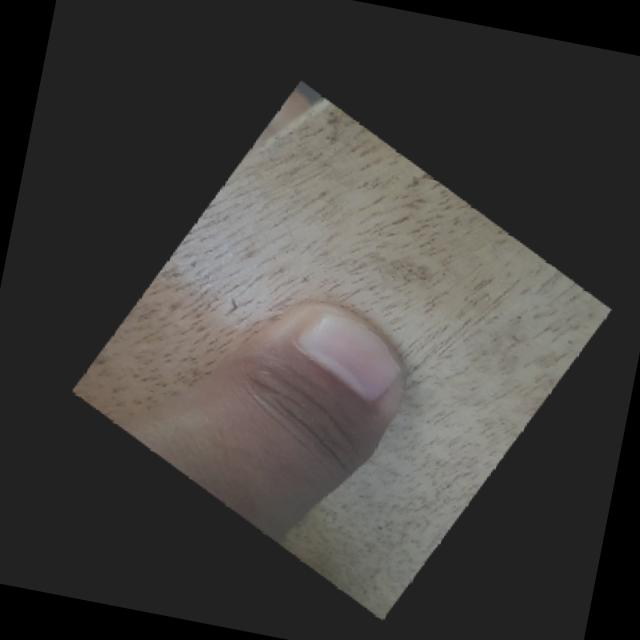Nail: (298, 311, 398, 403)
